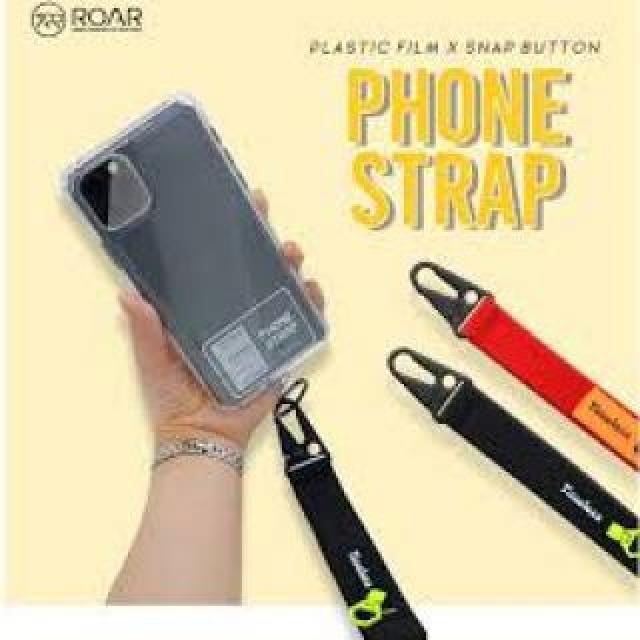smart phone: (65, 78, 335, 390)
